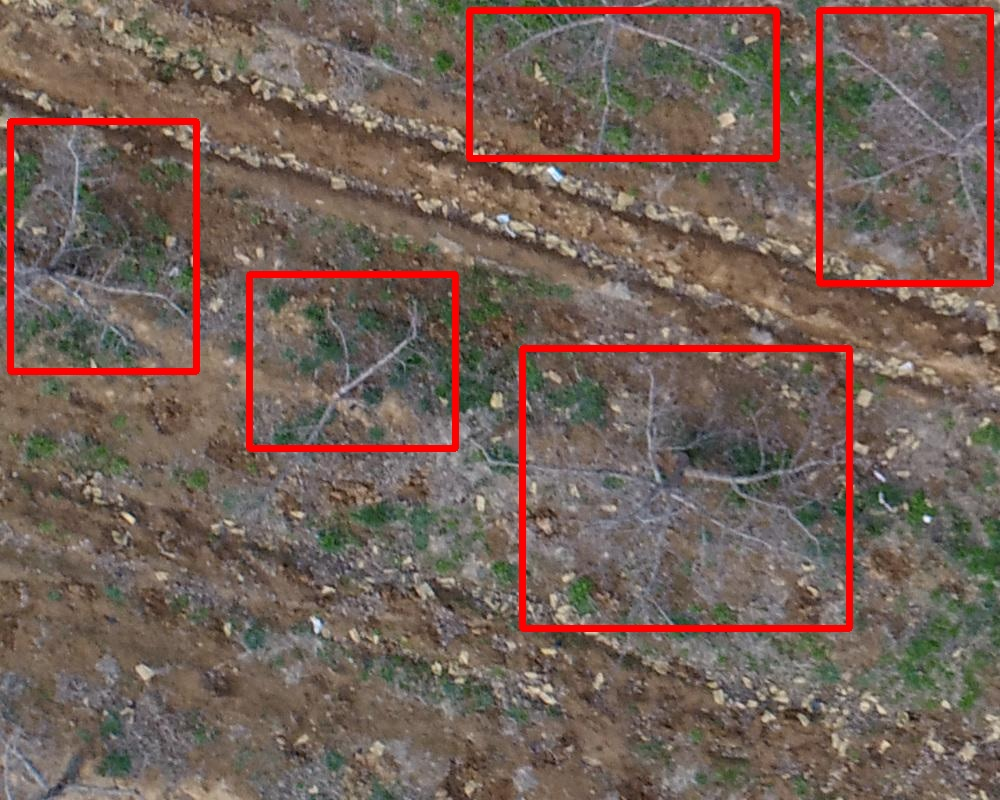apple: (522, 348, 849, 628), (819, 10, 990, 283), (10, 121, 196, 371), (469, 10, 776, 158), (249, 274, 455, 448)
